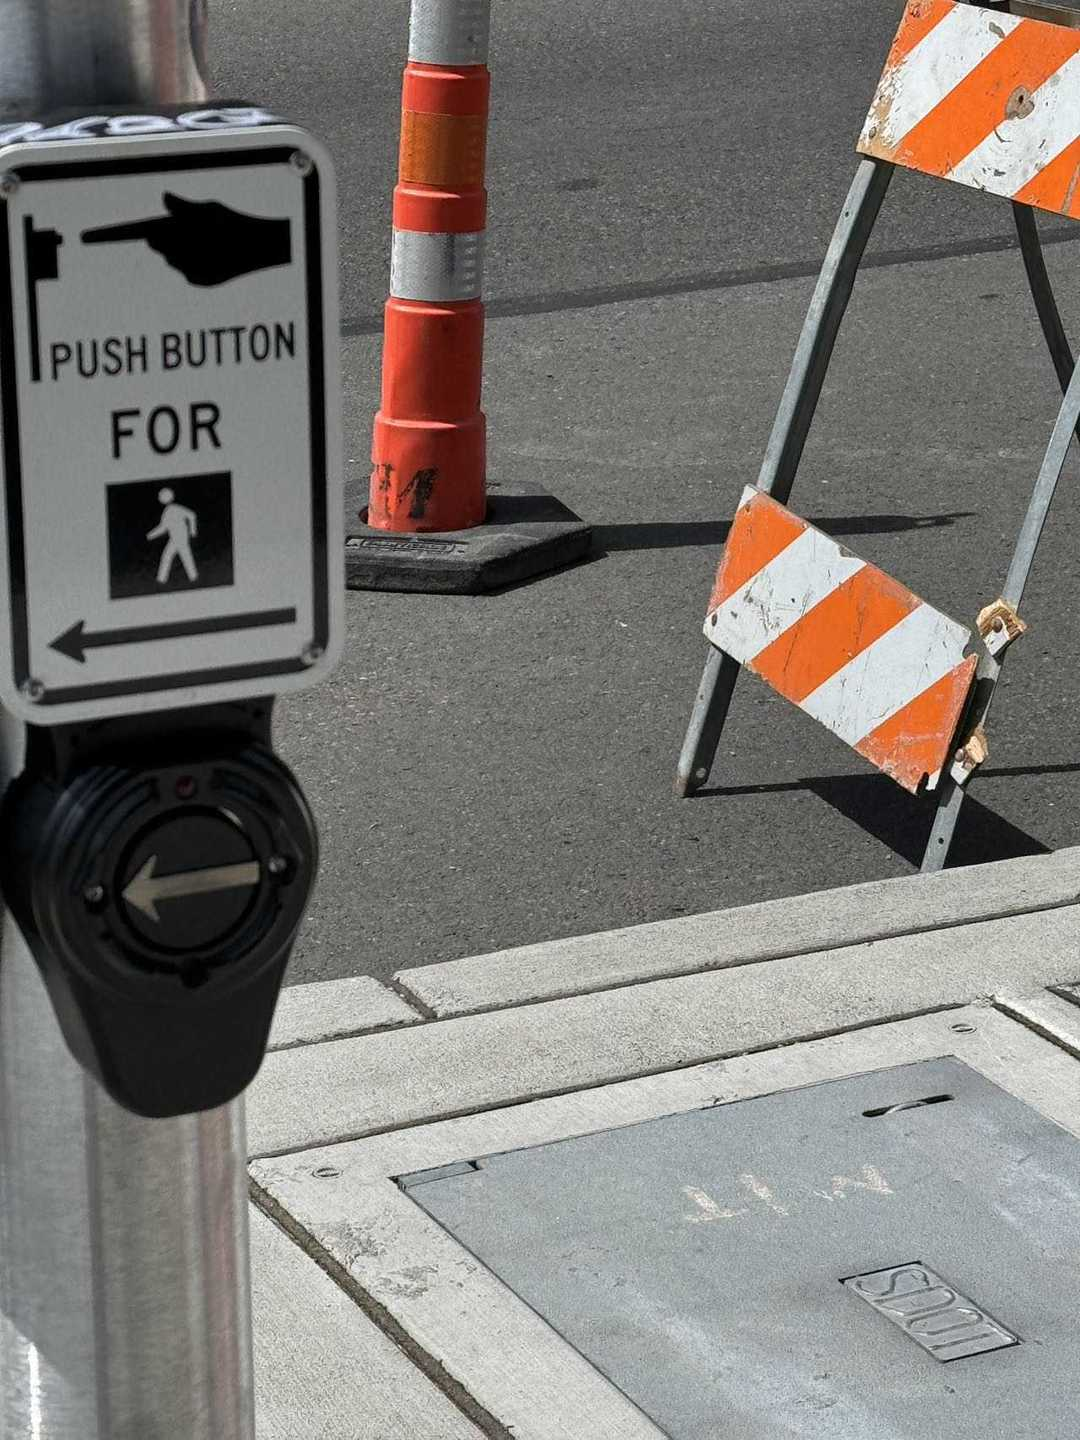ped_button: (6, 116, 324, 1137)
